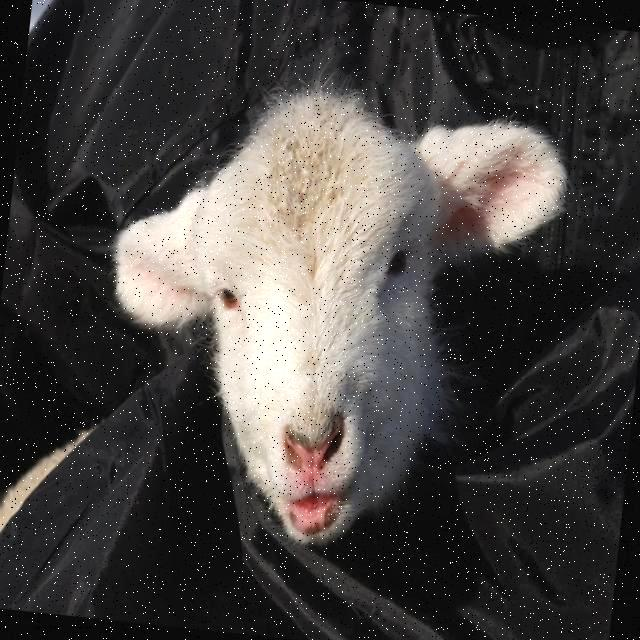sheep: (112, 73, 569, 545)
